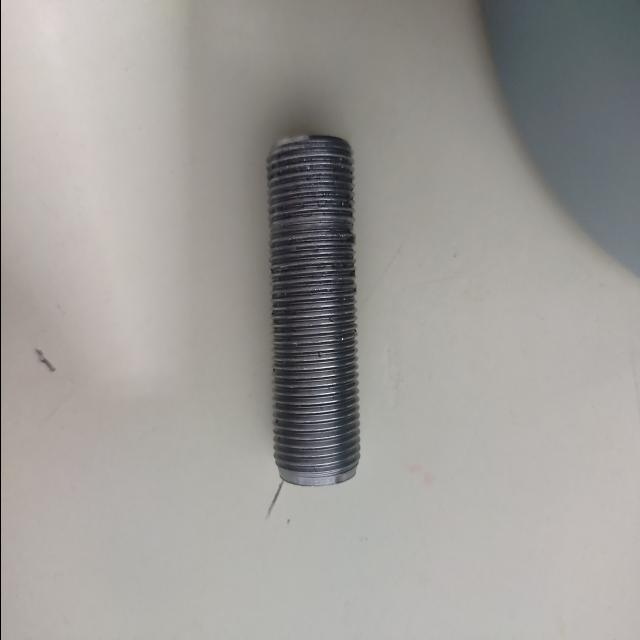Broken: (264, 133, 361, 484)
